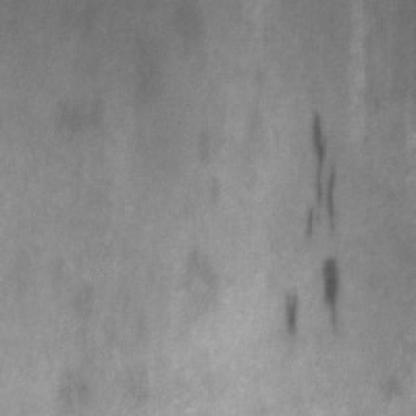inclusion: (293, 102, 343, 245), (310, 252, 346, 340), (272, 283, 300, 347)
